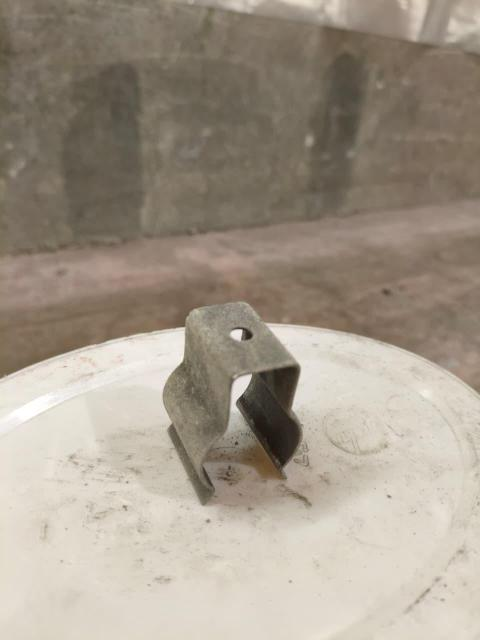Metal: (163, 298, 303, 493)
